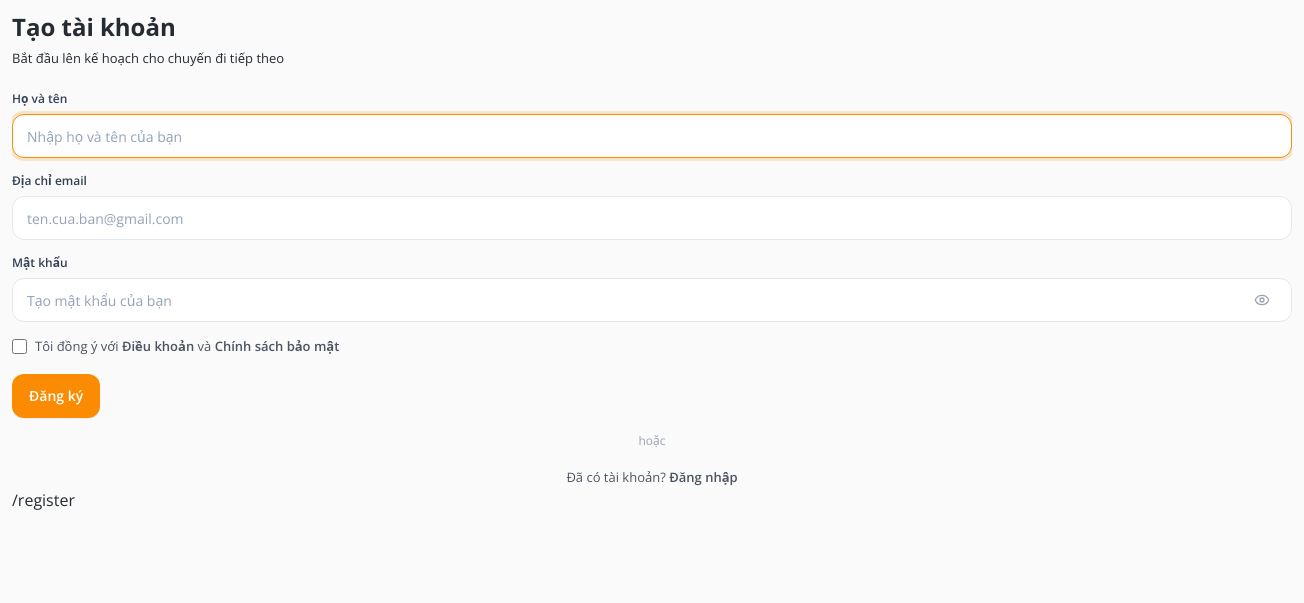
Test: Màn Đăng ký › lỗi: mật khẩu yếu (thiếu chữ hoa) → báo dưới ô mật khẩu, không gọi API
The image size is (1304, 603).
Type "Nguyễn Văn A" into the field labelled "Họ và tên".
click(652, 136); type("Nguyễn Văn A")  # box [12,114,1292,158]
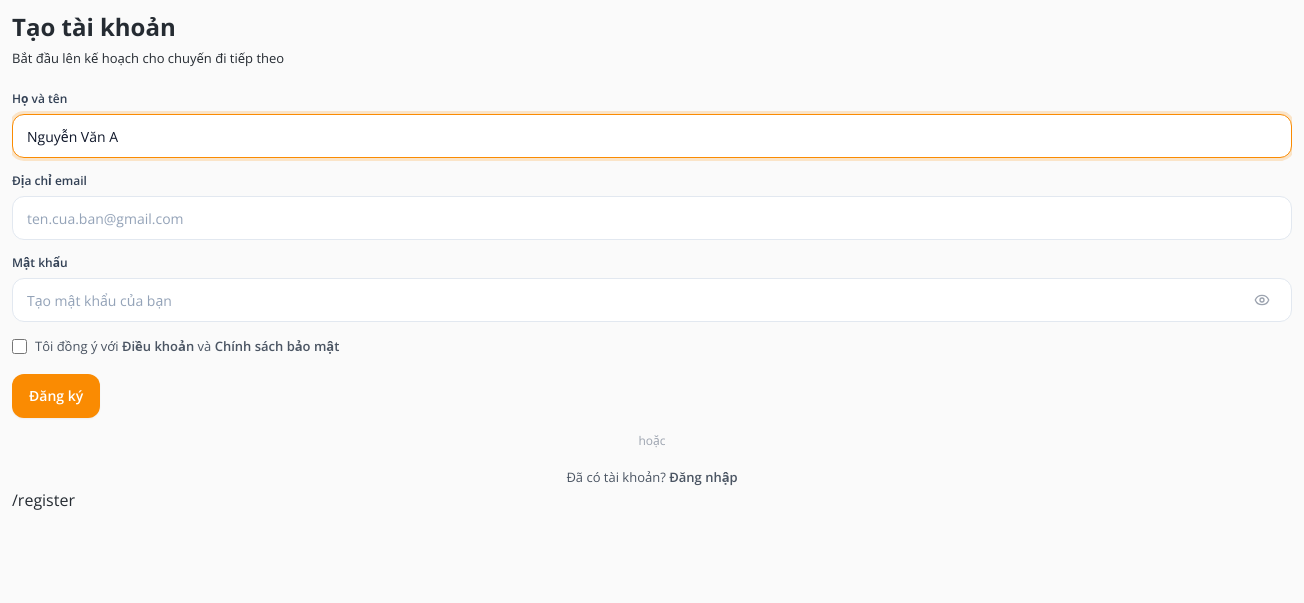
Type "moi@gmail.com" into the field labelled "Địa chỉ email".
click(652, 218); type("moi@gmail.com")  # box [12,196,1292,240]
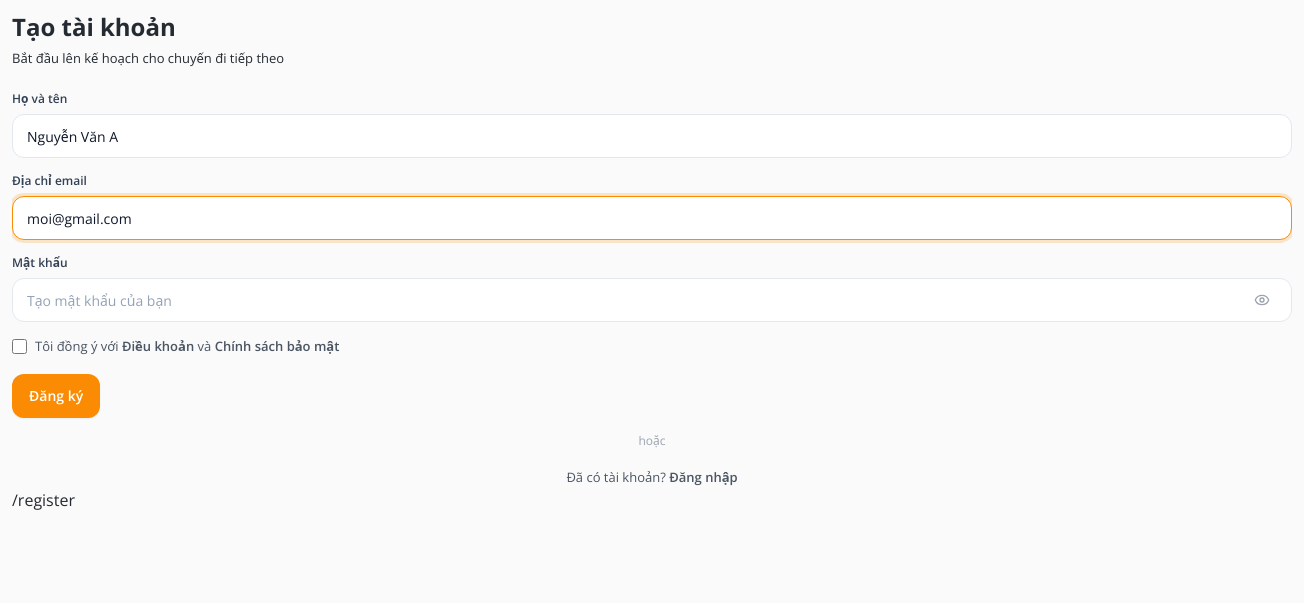
Type "matkhau1" into the password field labelled "Mật khẩu".
click(652, 300); type("matkhau1")  # box [12,278,1292,322]
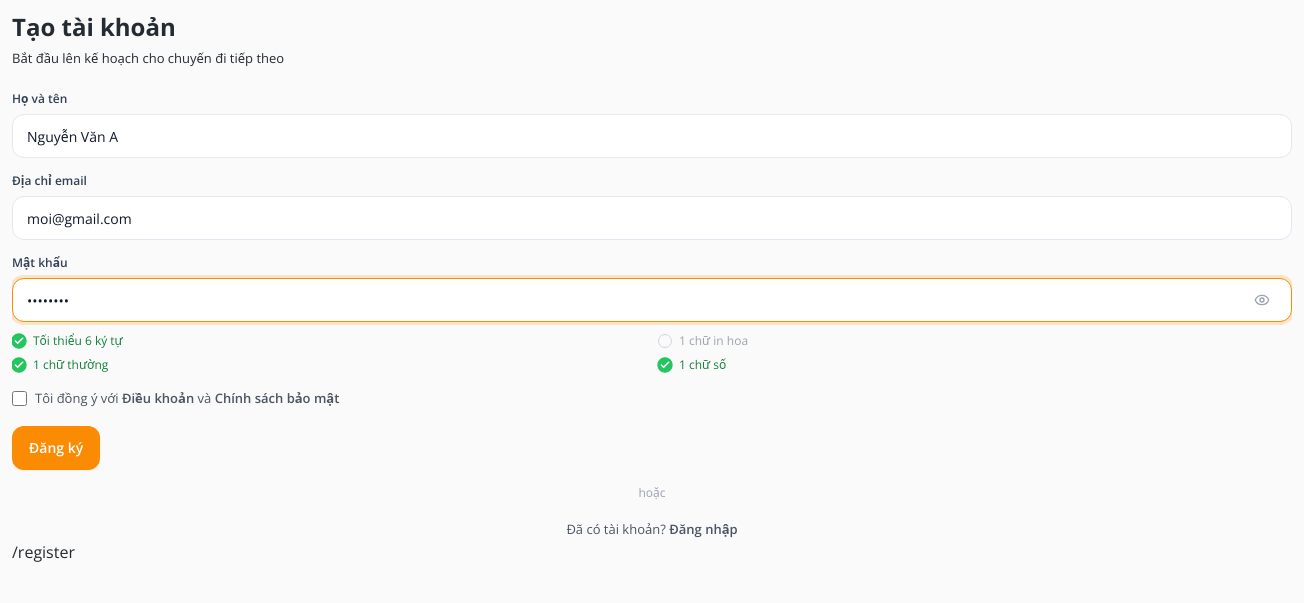
Click the checkbox.
click(20, 399)  # box [12,391,27,406]
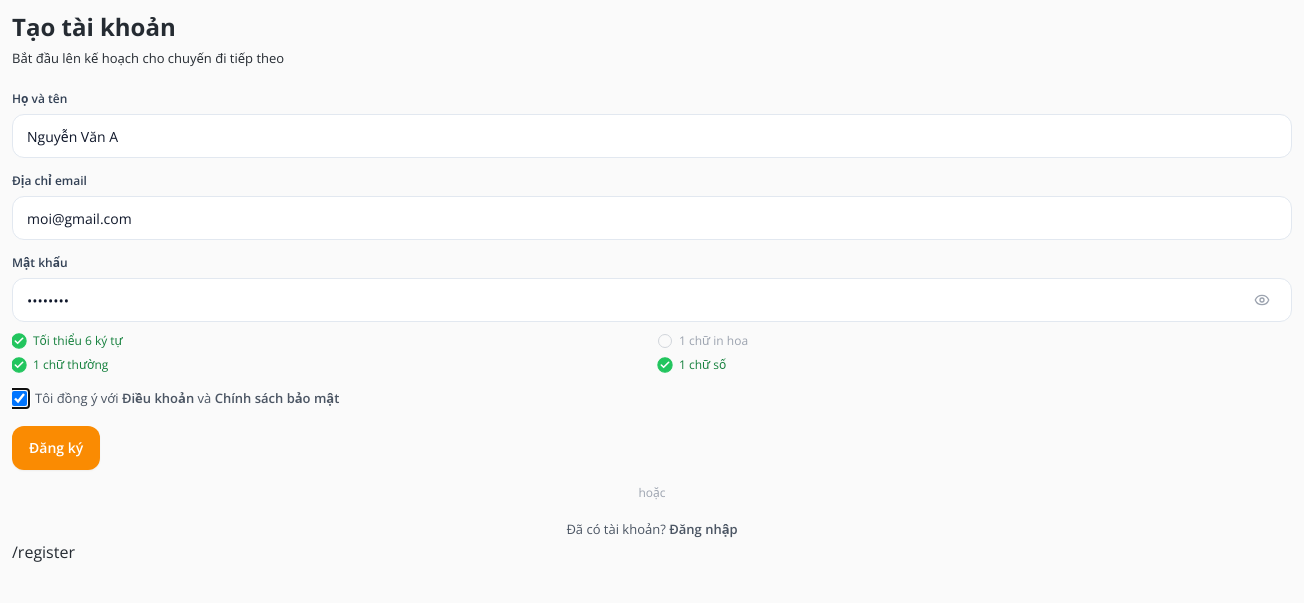
Click the button "Đăng ký".
click(56, 448)  # box [12,426,100,470]
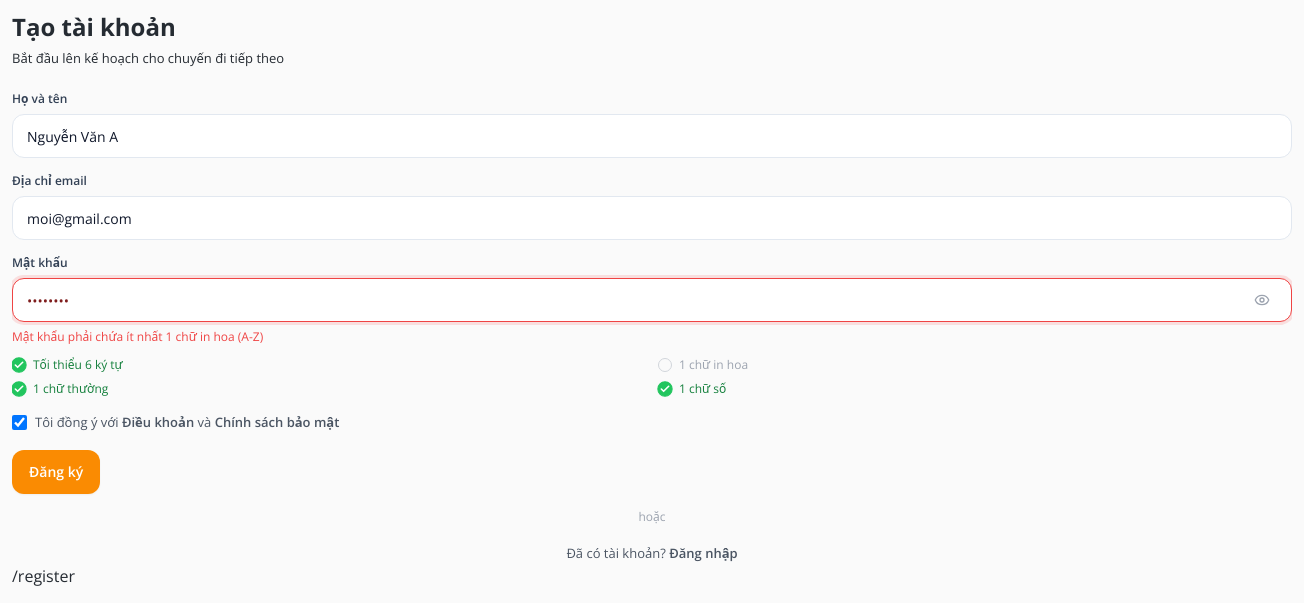
Now the text "Mật khẩu phải chứa ít nhất 1 chữ in hoa (A-Z)" is shown, box [12,328,263,345]
